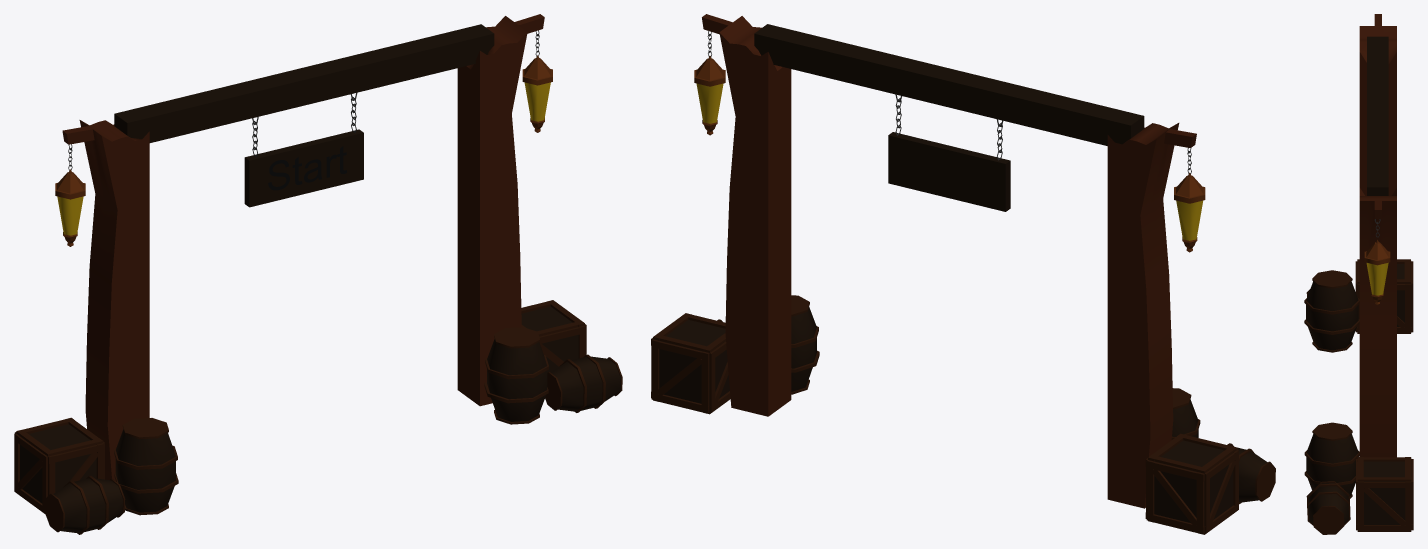
Rendered from Start.fbx.
3 renders of one model, left to right at view 1: azimuth 30°, elevation 25°; view 2: azimuth 150°, elevation 25°; view 3: azimuth 270°, elevation 25°, orthographic. The views are drawn at different scales.
Visible parts, largest first — view 1: Cylinder014; view 2: Cylinder014; view 3: Cylinder014.
Boxes of the visible parts, x1,y1,x2,y2 form: Cylinder014: [14, 14, 622, 534]; Cylinder014: [651, 14, 1275, 534]; Cylinder014: [1304, 14, 1413, 534].
Bounding box in the file's own units: 339 × 216 × 68.08.
